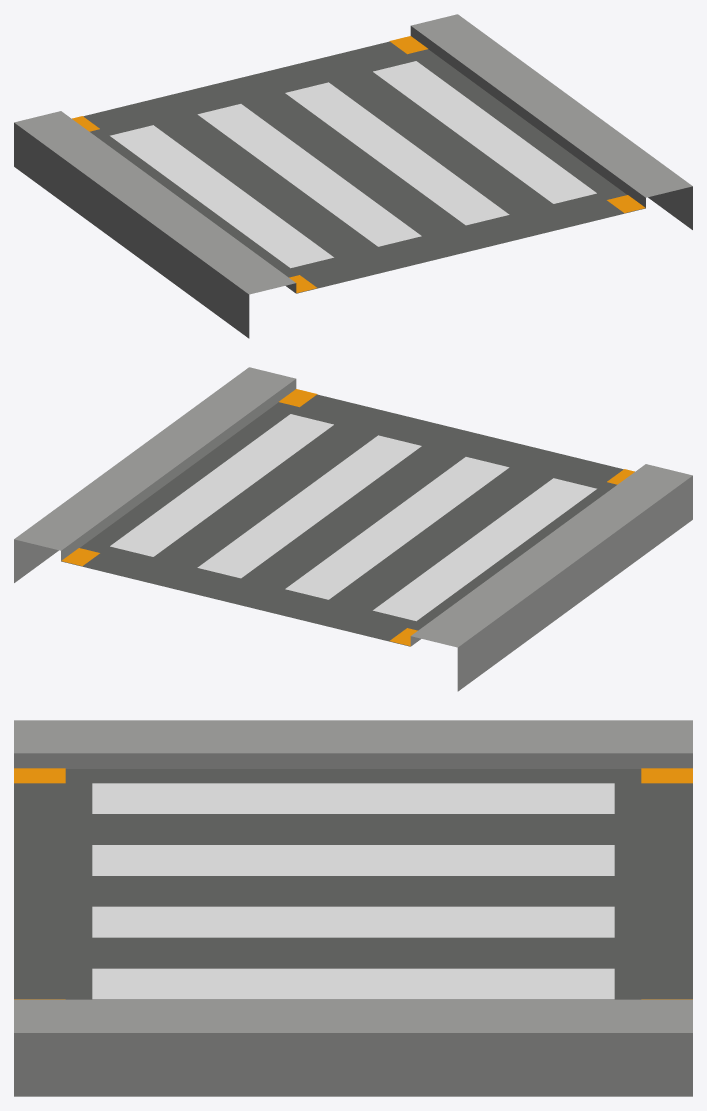
Rendered from Road_B_13.fbx.
The picture shows the model from 3 angles, top to bottom: view 1: azimuth 30°, elevation 25°; view 2: azimuth 150°, elevation 25°; view 3: azimuth 270°, elevation 25°; orthographic projection. The views are drawn at different scales.
Visible parts, largest first — view 1: Road_B_13; view 2: Road_B_13; view 3: Road_B_13.
Boxes of the visible parts, <box> form: Road_B_13: <box>14,14,692,338</box>; Road_B_13: <box>14,367,692,691</box>; Road_B_13: <box>14,720,692,1096</box>.
Size of the model in its own units: 436 by 41.48 by 400.
